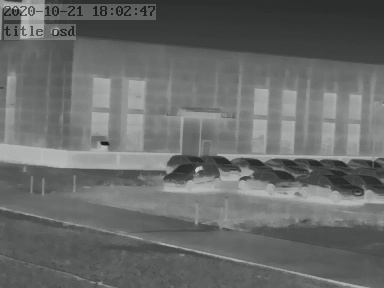vehicle: (163, 157, 222, 190), (302, 170, 362, 199), (238, 168, 305, 193), (344, 172, 384, 203), (205, 152, 244, 177), (261, 155, 303, 172), (232, 154, 270, 172), (347, 155, 380, 170), (316, 156, 348, 170), (295, 156, 325, 169)
